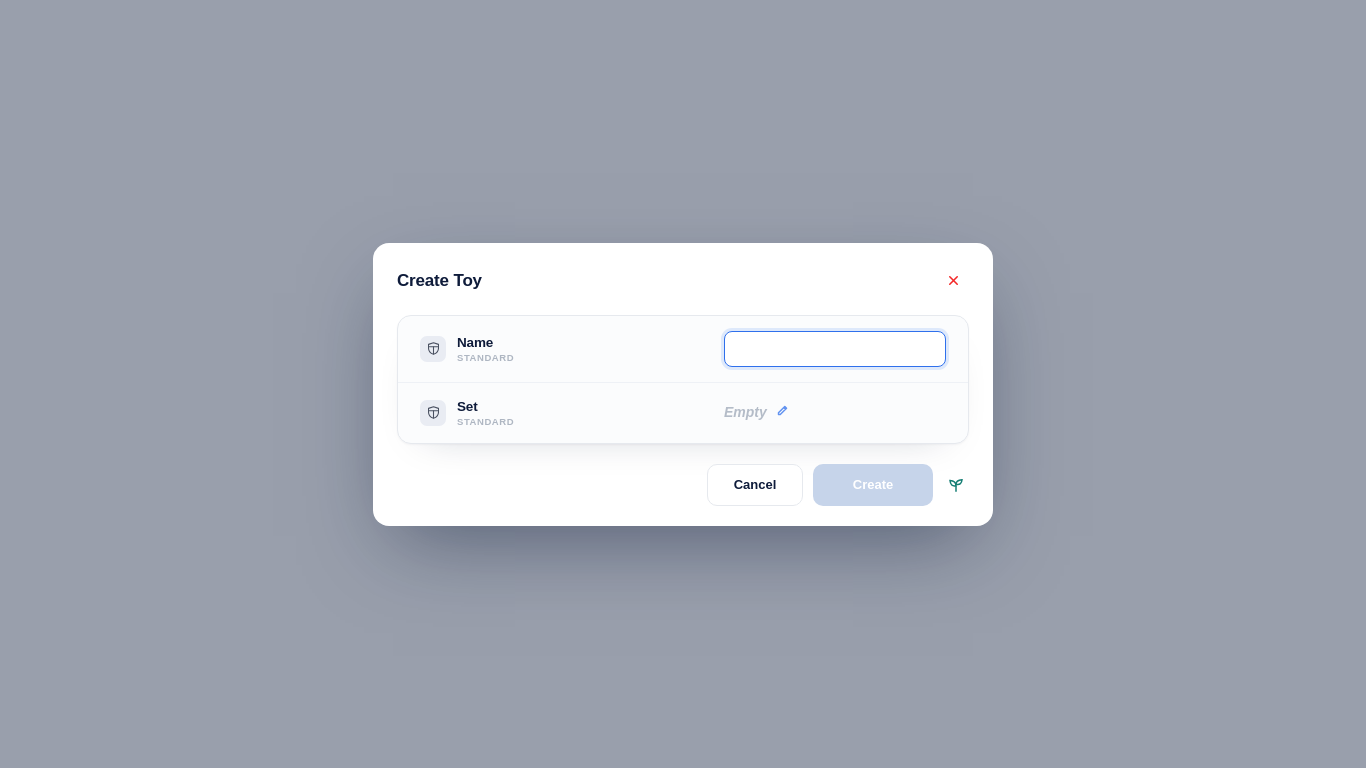
it: ToyCreateModal › beginner hint by the Create button › shows the hint when beginner mode is on and mass input mode is off
Click the button named "Beginner hint" at (956, 484), box [943, 464, 969, 506]
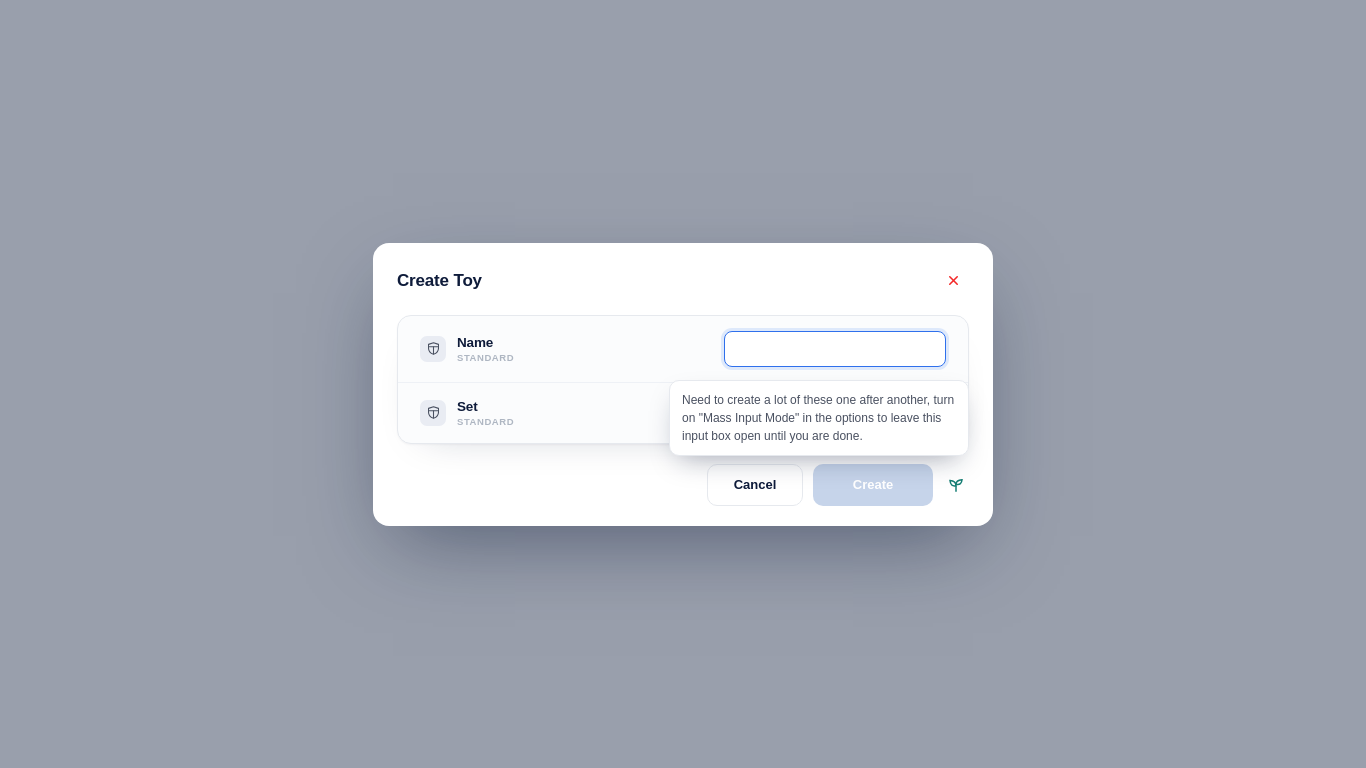
Now the tooltip shows "turn on \"Mass Input Mode\" in the options", box [682, 392, 954, 442]
